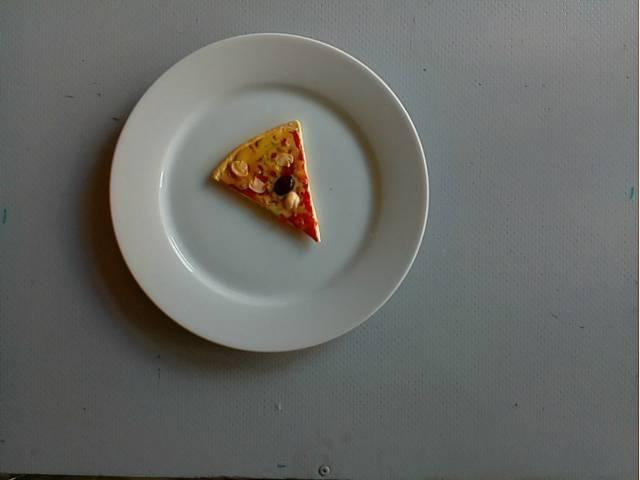Pizza slice (mushroom): (209, 118, 321, 244)
